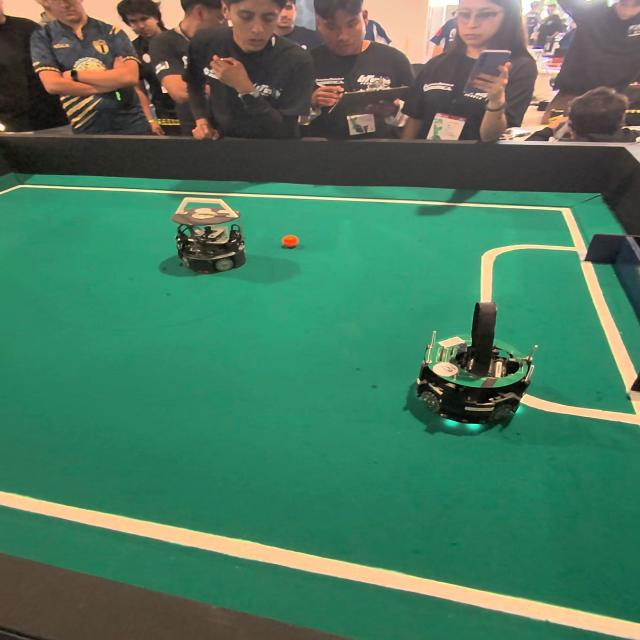Robot: (410, 292, 555, 442), (161, 190, 250, 277)
pelota: (274, 226, 303, 258)
